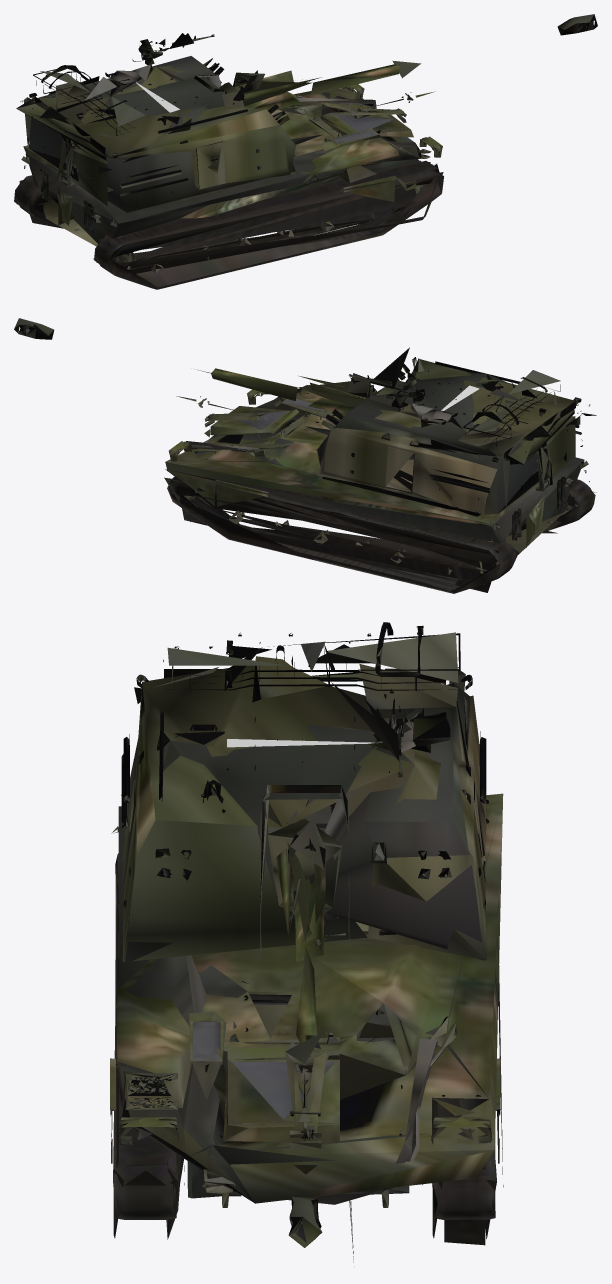
The model's file is plz05_lo.glb.
3 renders of one model, top to bottom at view 1: azimuth 30°, elevation 25°; view 2: azimuth 150°, elevation 25°; view 3: azimuth 270°, elevation 25°, orthographic. The views are drawn at different scales.
Visible parts, largest first — view 1: g_plz05_hull, g_plz05_turret, g_plz05_gun; view 2: g_plz05_hull, g_plz05_turret, g_plz05_gun; view 3: g_plz05_turret, g_plz05_hull, g_plz05_gun.
Boxes of the visible parts, x1=… form: g_plz05_hull: x1=14, y1=84, x2=443, y2=289; g_plz05_turret: x1=16, y1=14, x2=597, y2=212; g_plz05_gun: x1=172, y1=34, x2=400, y2=125; g_plz05_hull: x1=164, y1=385, x2=596, y2=593; g_plz05_turret: x1=14, y1=318, x2=596, y2=516; g_plz05_gun: x1=211, y1=368, x2=391, y2=414; g_plz05_turret: x1=121, y1=622, x2=488, y2=1247; g_plz05_hull: x1=110, y1=793, x2=503, y2=1262; g_plz05_gun: x1=276, y1=729, x2=402, y2=1043.
Bounding box in the file's own units: 11.49 × 3.99 × 3.61.
Materials: 4 (3 with a texture image).
